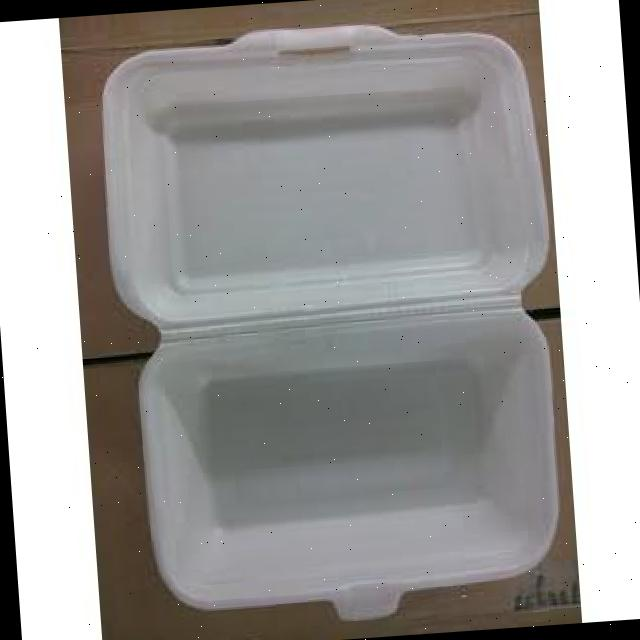styrofoam: (90, 8, 574, 636)
